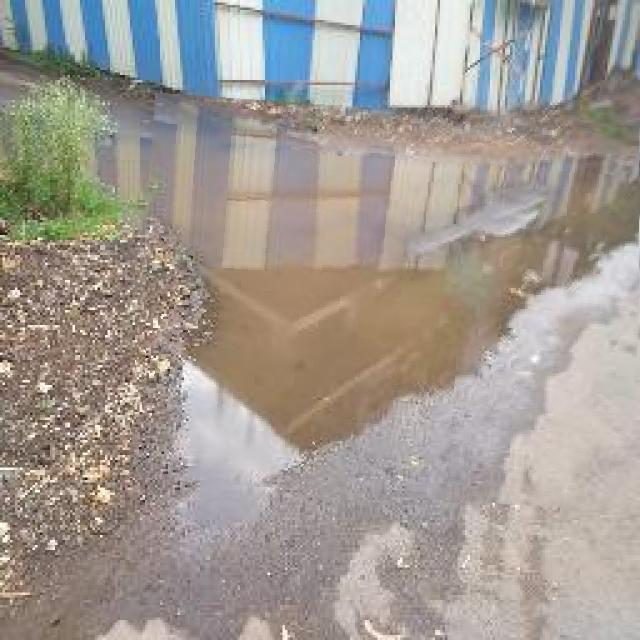puddle: (135, 103, 640, 505)
